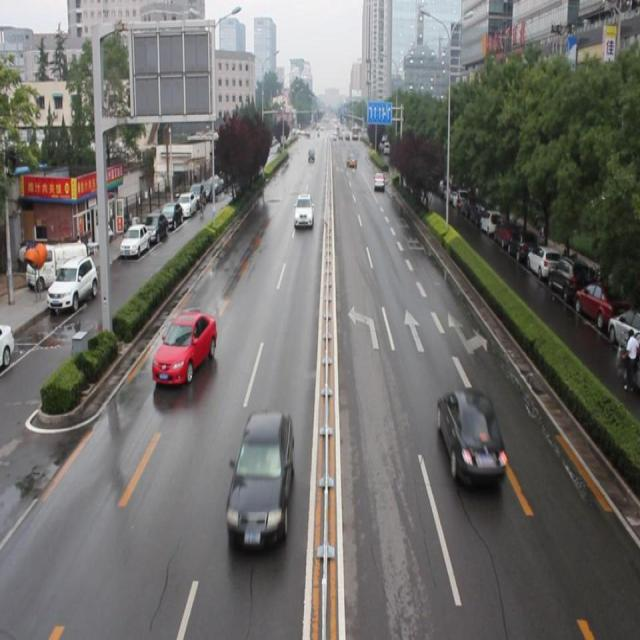car: (226, 407, 294, 548), (436, 387, 508, 483), (152, 309, 218, 386), (293, 192, 314, 229), (373, 170, 384, 190)
